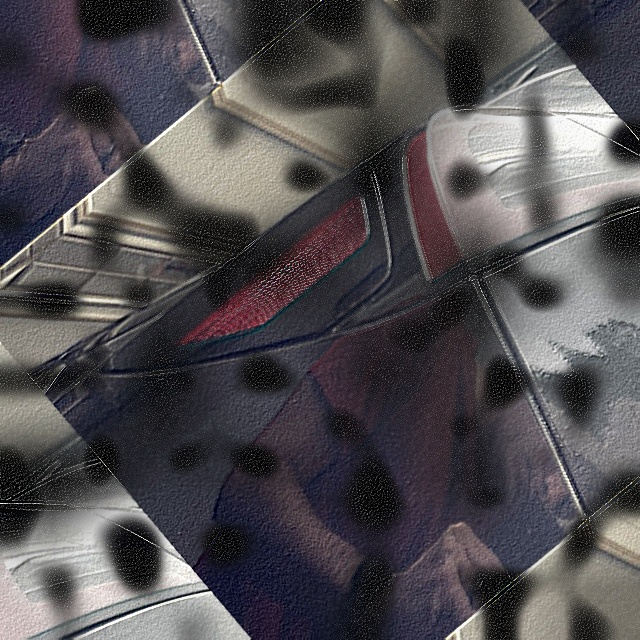reflector: (173, 192, 388, 381)
